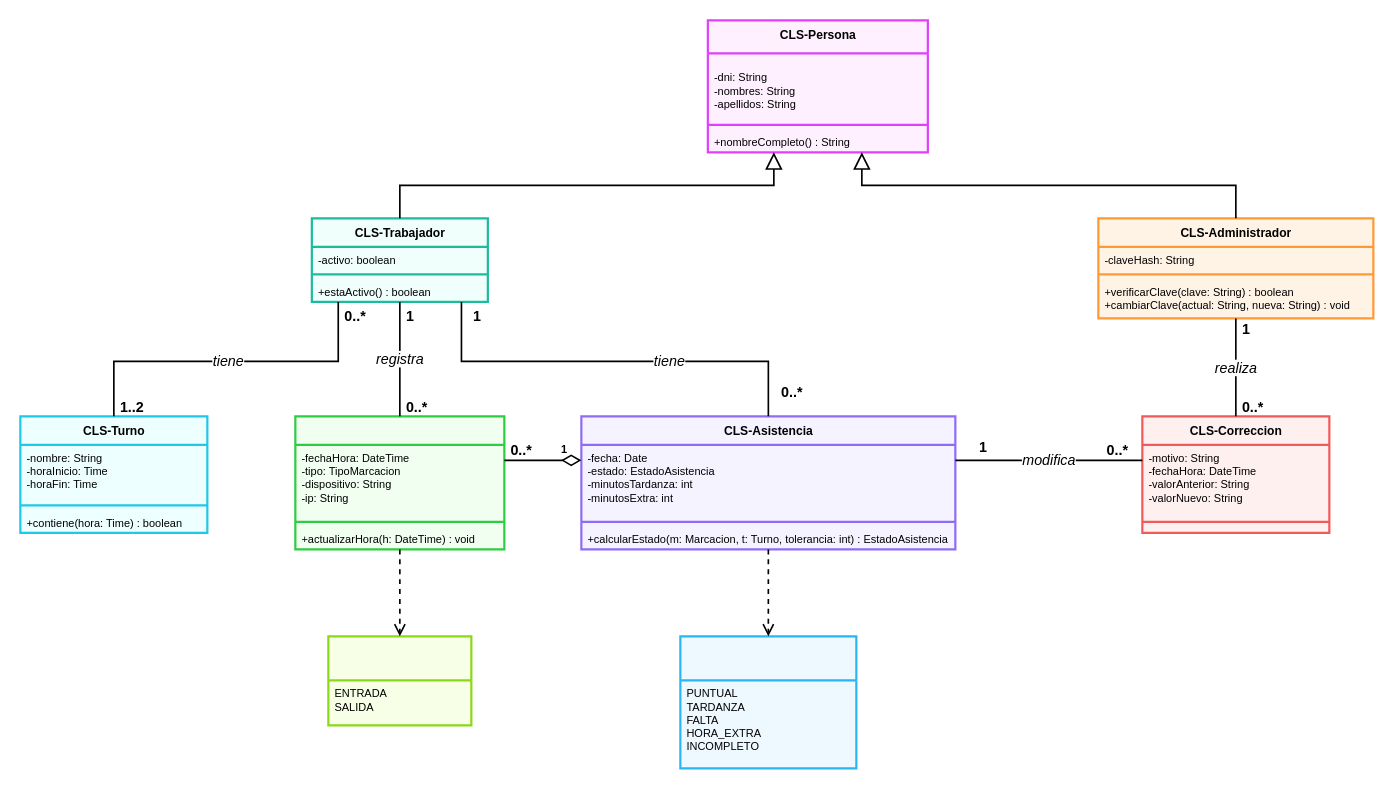
This 1393x791 diagram has some shape labels left out. Here are the shapes that lost their labels. From the top down, the box of each, then its label:
(294, 415, 505, 550): CLS-Marcacion
(327, 635, 472, 726): ENM-TipoMarcacion
(679, 635, 857, 769): ENM-EstadoAsistencia
